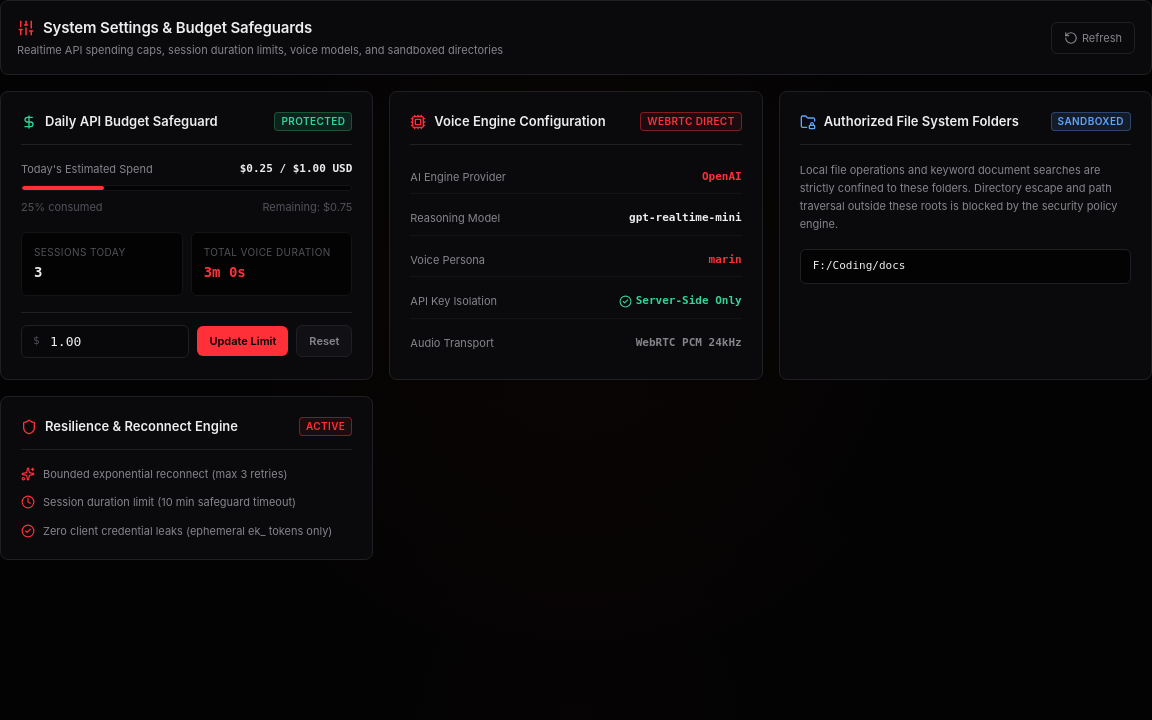
Test case: SettingsPanel Component › updates daily budget limit via the form
Check: the text "$0.25 / $1.00 USD" is shown, box [240,160,352,177]
Replace the text in the number field with "2.50" at (105, 341), box [21,324,189,358]
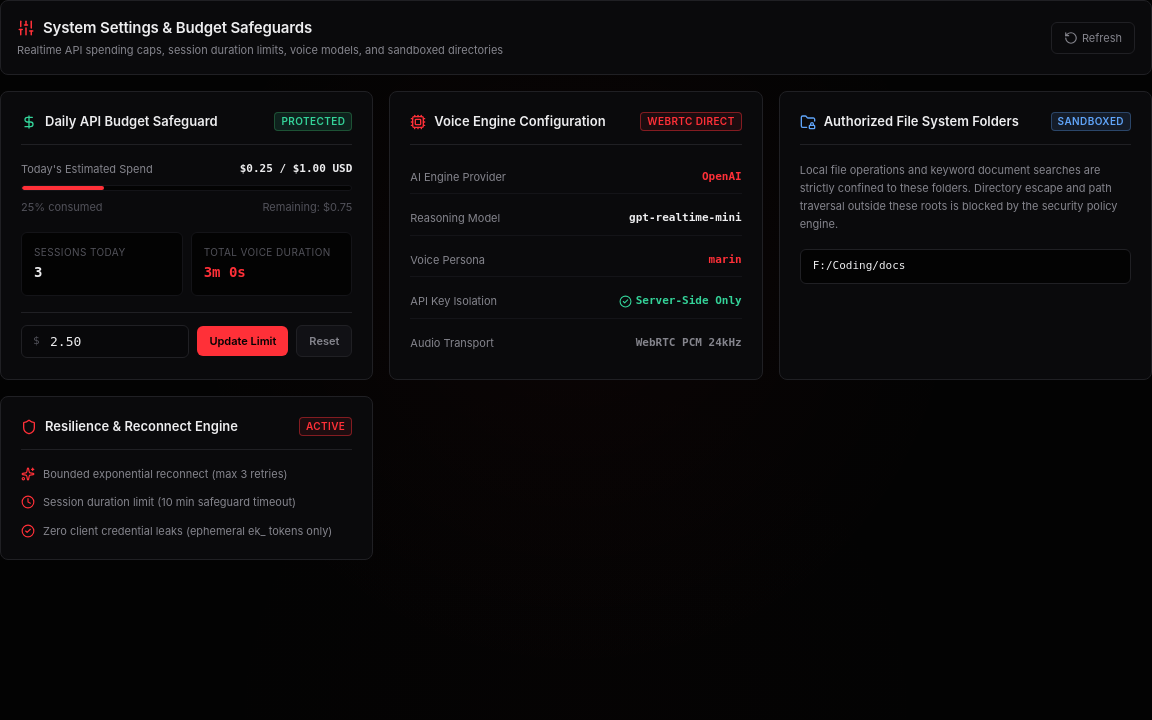
Click the button "Update Limit" at (243, 341), box [197,326,288,356]
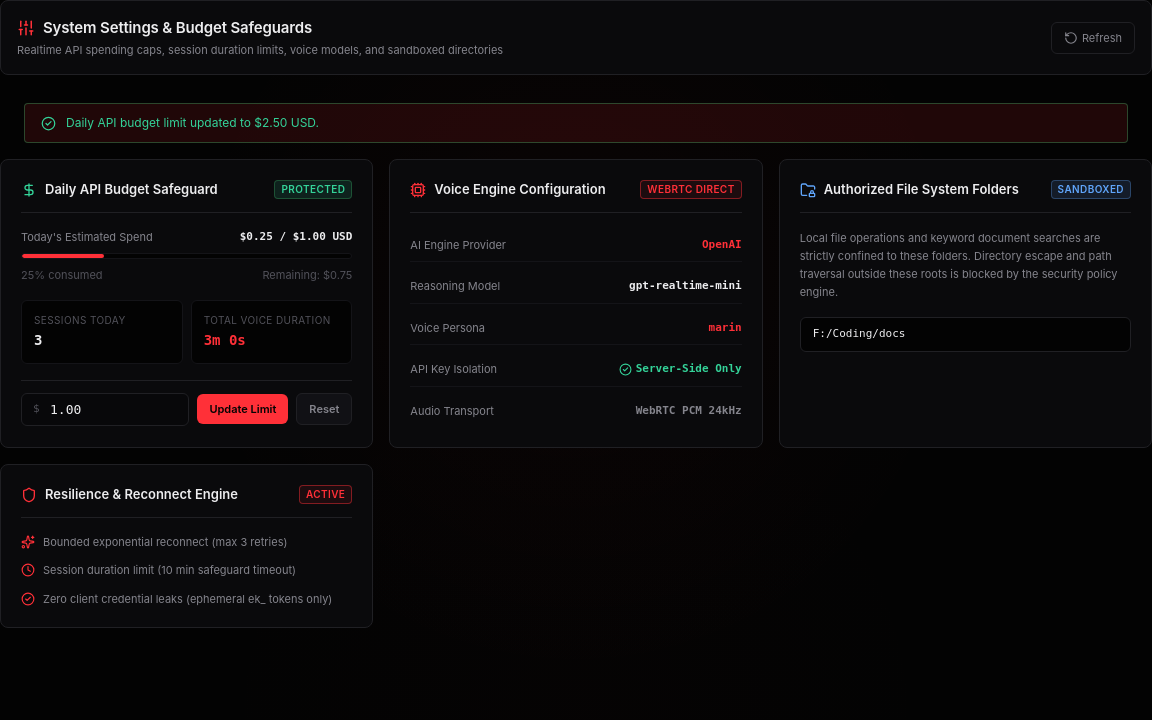
Check: the text "Daily API budget limit updated to $2.50 USD." is shown, box [66,114,319,132]
